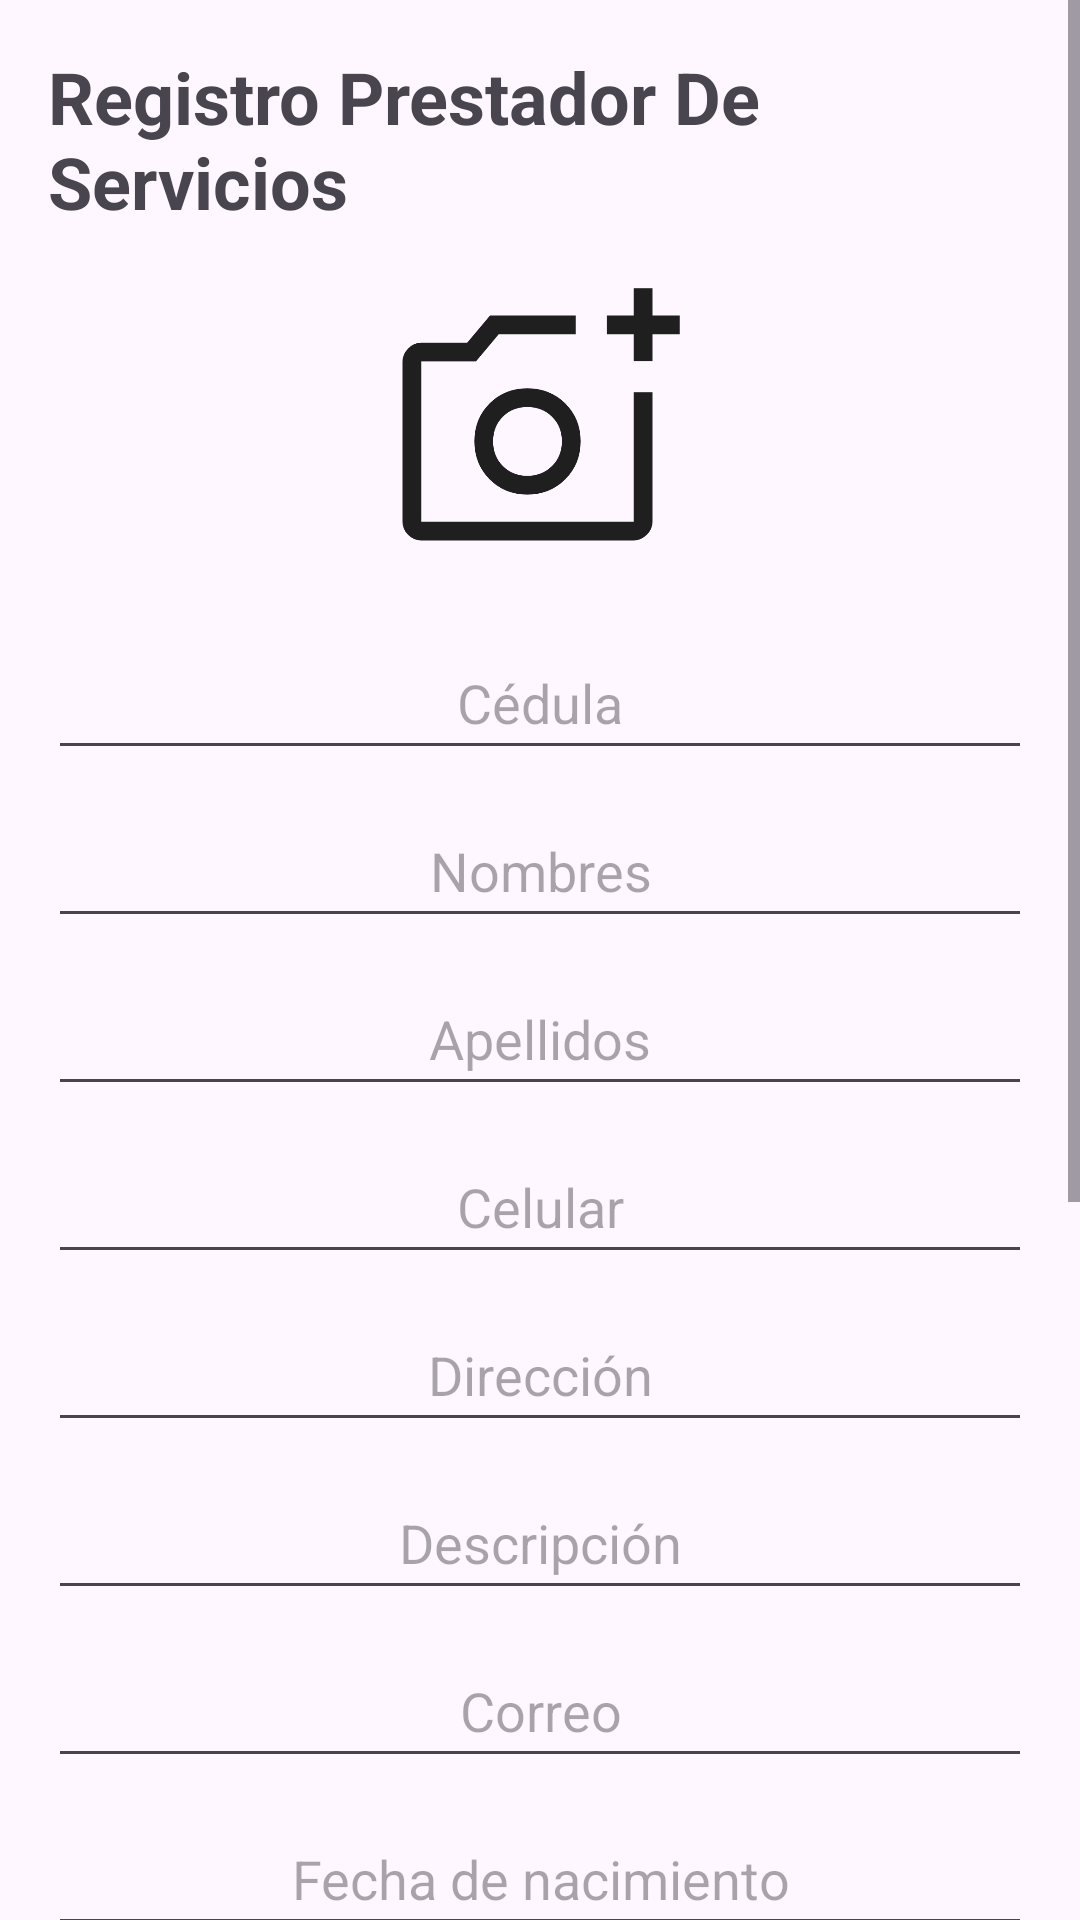

Named icons in this screenshot (1080*1920) and their bounding boxes, (x1, y1, x2, y2):
addphoto: (402, 288, 680, 541)
